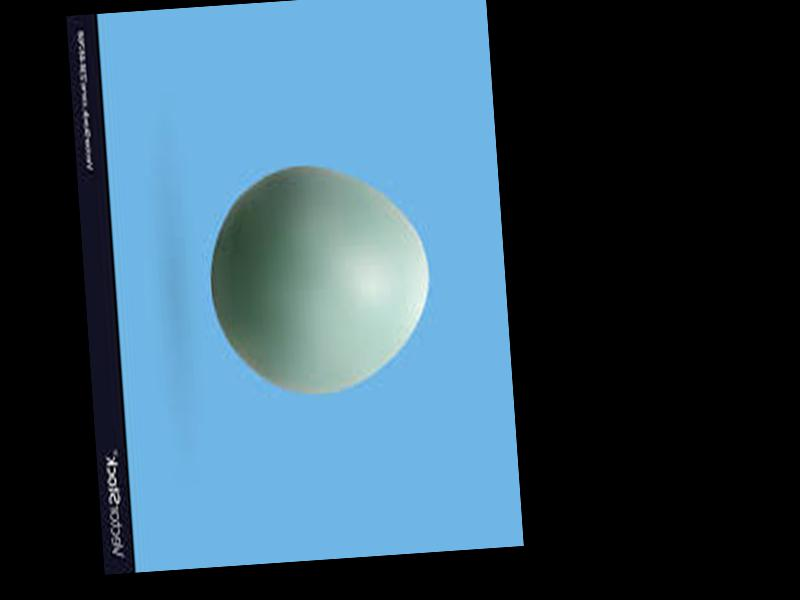Eggs: (204, 155, 436, 400)
